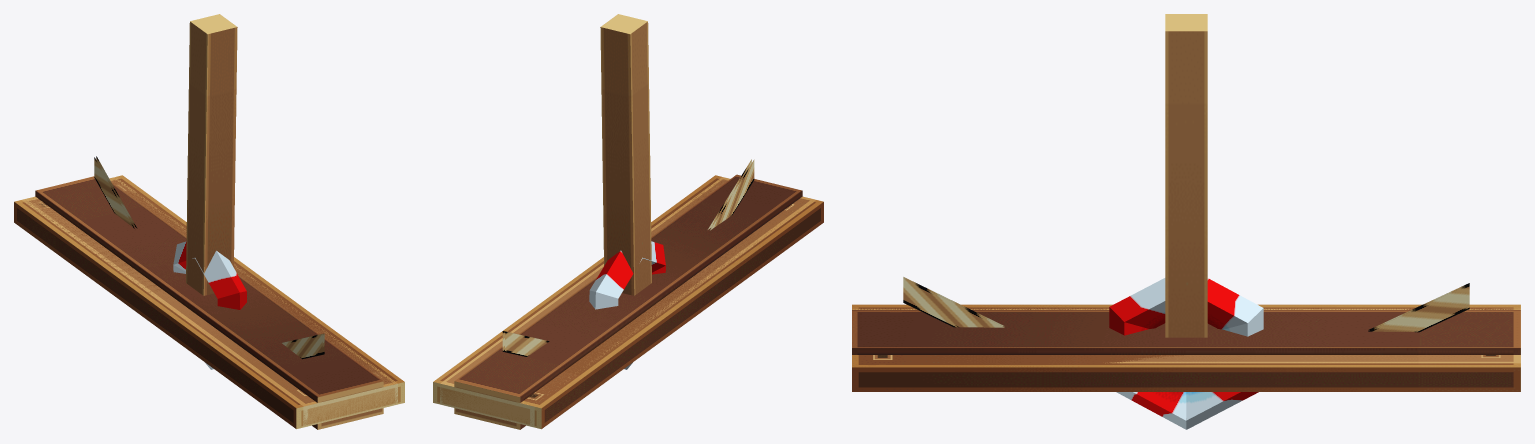
The model's file is small_parts.fbx.
3 views of the same model, side by side, from view 1: azimuth 30°, elevation 25°; view 2: azimuth 150°, elevation 25°; view 3: azimuth 270°, elevation 25° (orthographic). The views are drawn at different scales.
Visible parts, largest first — view 1: plank_01, plank_03, pillar, plank_02, ring, wire; view 2: plank_01, plank_03, pillar, plank_02, ring, wire; view 3: plank_01, plank_03, pillar, ring, wire, plank_02.
Part boxes in pixels (left/top/right/bottom): plank_01: left=35, top=176, right=383, bottom=429; plank_03: left=14, top=175, right=404, bottom=429; pillar: left=186, top=14, right=237, bottom=295; plank_02: left=21, top=177, right=397, bottom=427; ring: left=173, top=241, right=246, bottom=369; wire: left=94, top=156, right=324, bottom=359; plank_01: left=454, top=174, right=802, bottom=429; plank_03: left=433, top=175, right=823, bottom=429; pillar: left=600, top=14, right=651, bottom=295; plank_02: left=440, top=177, right=816, bottom=427; ring: left=589, top=241, right=665, bottom=369; wire: left=502, top=159, right=754, bottom=356; plank_01: left=852, top=310, right=1520, bottom=354; plank_03: left=852, top=304, right=1520, bottom=391; pillar: left=1165, top=14, right=1207, bottom=337; ring: left=1109, top=278, right=1263, bottom=429; wire: left=903, top=277, right=1469, bottom=332; plank_02: left=852, top=308, right=1520, bottom=363.
Bounding box in the file's own units: 2.22 × 6.74 × 10.
